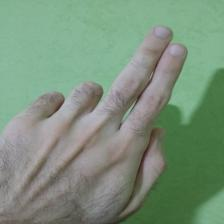three: (16, 25, 188, 220)
